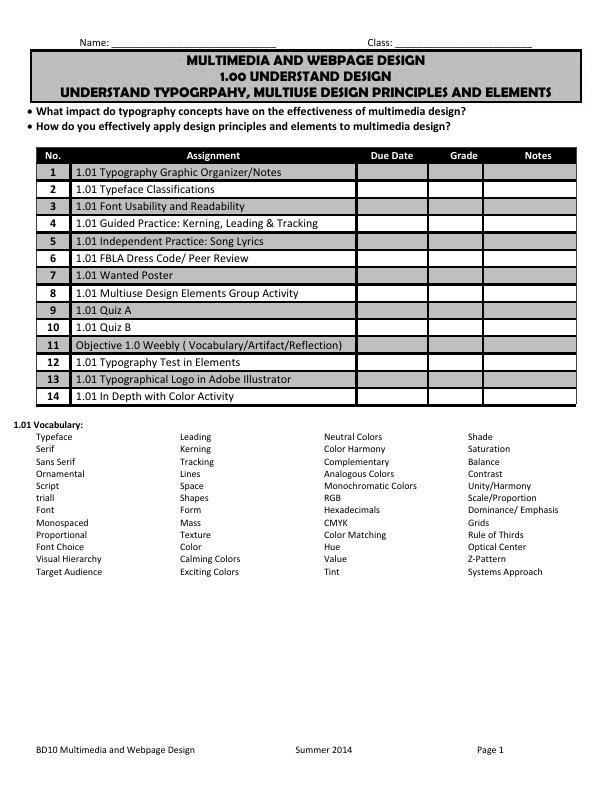input: (110, 37, 281, 49), (395, 36, 531, 48)
table: (32, 146, 583, 413)
text: (11, 419, 573, 583), (49, 54, 555, 100), (36, 103, 471, 135), (31, 739, 200, 760), (284, 739, 358, 760), (472, 740, 509, 761), (364, 34, 394, 50), (76, 35, 107, 49)
